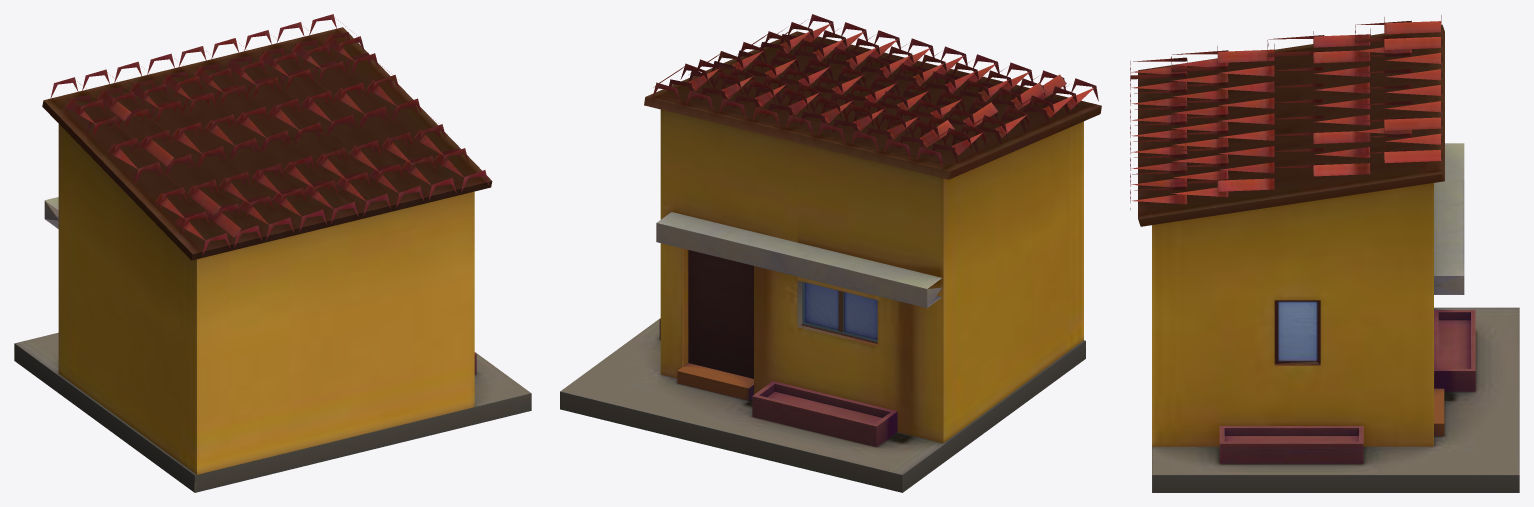
The model's file is casa-teja.glb.
3 views of the same model, side by side, from view 1: azimuth 30°, elevation 25°; view 2: azimuth 150°, elevation 25°; view 3: azimuth 270°, elevation 25° (orthographic). The views are drawn at different scales.
Parts seen in each view (by area): view 1: Paredes, Base techo, Techo, Piso; view 2: Paredes, Techo, Piso, Base techo, Muros Entrada, Puerta, macetas, Ventana, Escalon; view 3: Paredes, Base techo, Techo, Piso, macetas, Muros Entrada, Ventana, Escalon.
Part boxes in pixels (x1,y1,x2,y2): Paredes: [58, 124, 474, 474]; Base techo: [42, 27, 492, 260]; Techo: [50, 14, 489, 254]; Piso: [14, 332, 531, 492]; Paredes: [660, 109, 1083, 442]; Techo: [652, 14, 1098, 168]; Piso: [560, 281, 1085, 492]; Base techo: [644, 31, 1101, 179]; Muros Entrada: [656, 212, 941, 307]; Puerta: [688, 250, 753, 378]; macetas: [659, 318, 897, 447]; Ventana: [801, 282, 877, 343]; Escalon: [677, 363, 753, 400]; Paredes: [1152, 183, 1433, 446]; Base techo: [1138, 24, 1444, 226]; Techo: [1130, 15, 1441, 209]; Piso: [1152, 307, 1519, 492]; macetas: [1219, 310, 1475, 464]; Muros Entrada: [1434, 143, 1464, 294]; Ventana: [1274, 300, 1320, 364]; Escalon: [1434, 388, 1444, 436].
Size of the model in its own units: 5.95 by 5.06 by 5.7.
Materials: 10 (9 with a texture image).
